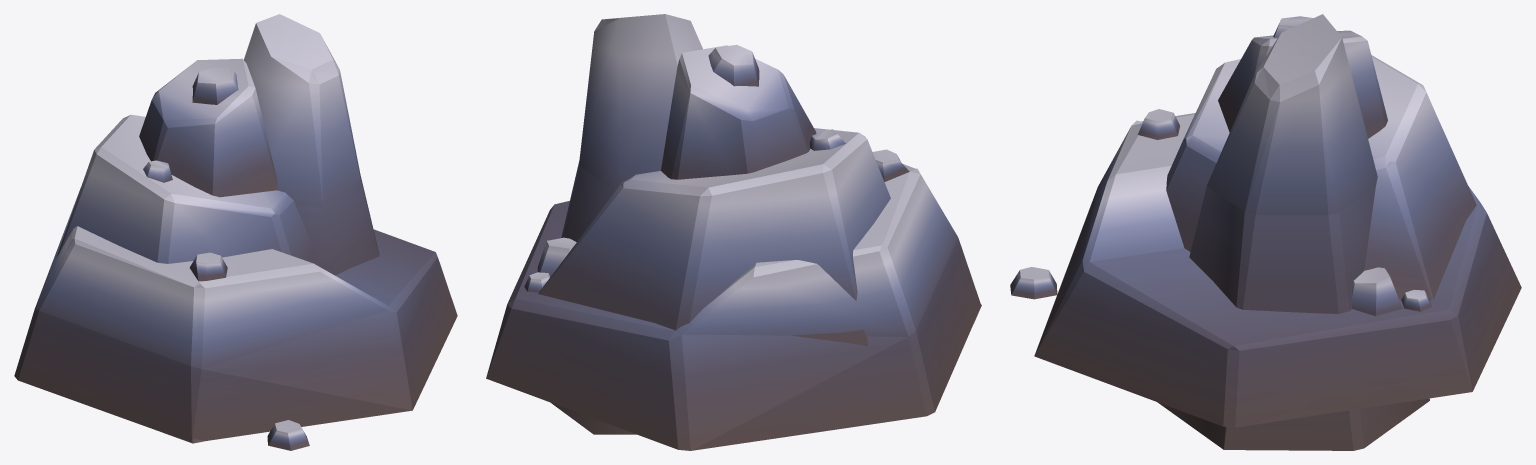
Rendered from block_mountain_2_3.fbx.
3 views of the same model, side by side, from view 1: azimuth 30°, elevation 25°; view 2: azimuth 150°, elevation 25°; view 3: azimuth 270°, elevation 25° (orthographic). The views are drawn at different scales.
Parts seen in each view (by area): view 1: block_mountain_2_3; view 2: block_mountain_2_3; view 3: block_mountain_2_3.
Boxes of the visible parts, <box> form: block_mountain_2_3: <box>14,14,457,450</box>; block_mountain_2_3: <box>486,14,981,450</box>; block_mountain_2_3: <box>1010,14,1521,450</box>.
Bounding box in the file's own units: 114 × 94.25 × 115.
